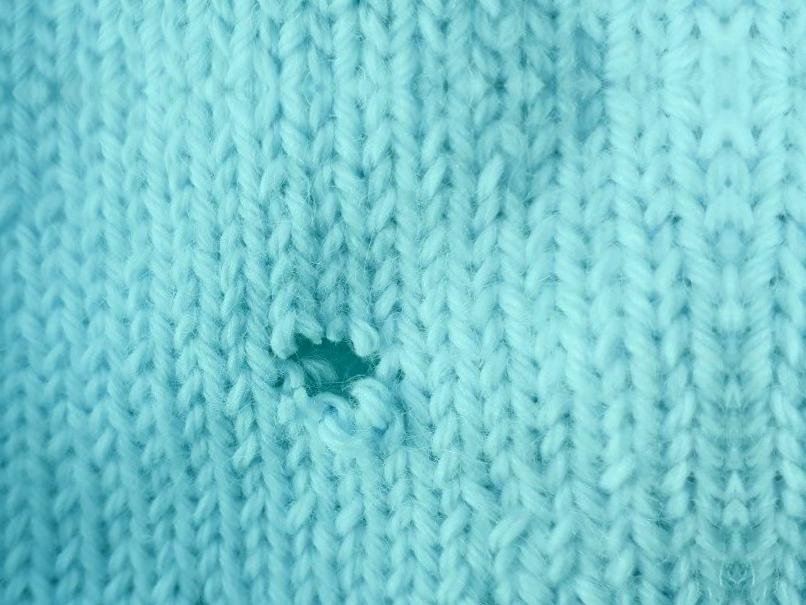hole: (273, 321, 397, 418)
